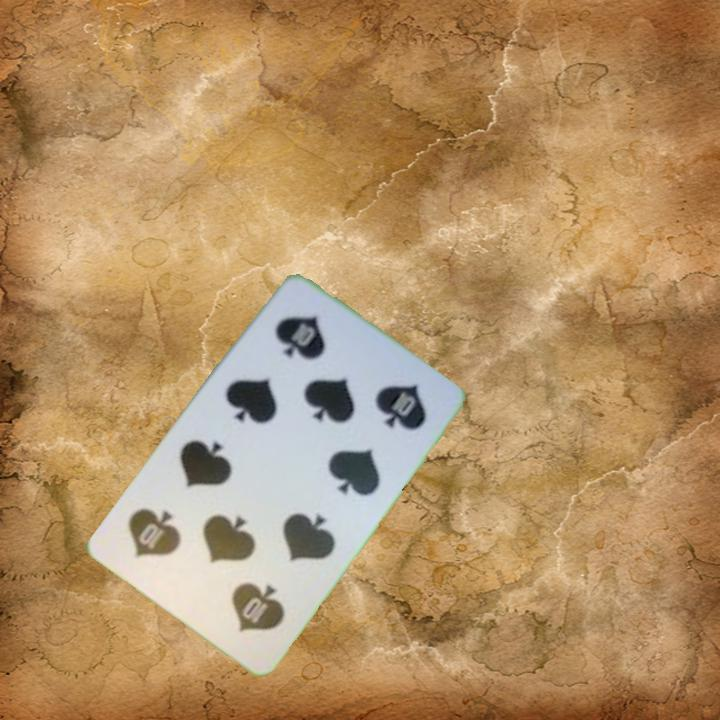s_10.png: (244, 287, 373, 413), (181, 534, 310, 660)
